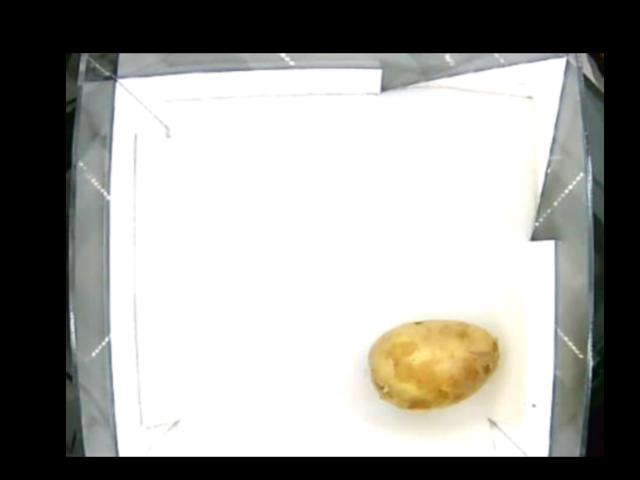Potato: (368, 318, 499, 411)
